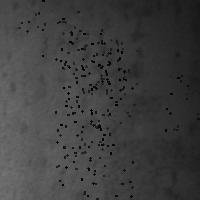pitted_surface: (18, 25, 144, 162), (64, 29, 123, 87), (63, 62, 121, 120), (77, 40, 136, 97), (56, 124, 112, 184), (78, 104, 133, 161), (55, 111, 109, 168), (38, 11, 91, 67), (165, 72, 200, 129), (77, 168, 136, 200), (0, 0, 42, 30)
